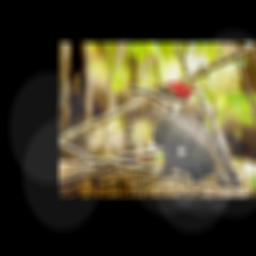Woodpecker: (129, 83, 243, 190)
